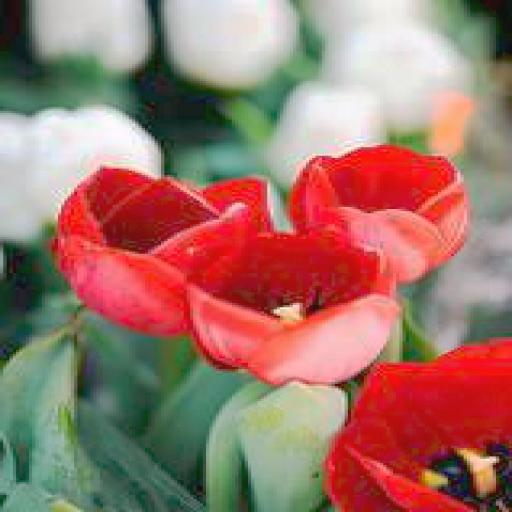tulip: (54, 166, 274, 328), (322, 333, 512, 512), (203, 234, 396, 378), (290, 143, 467, 275)
